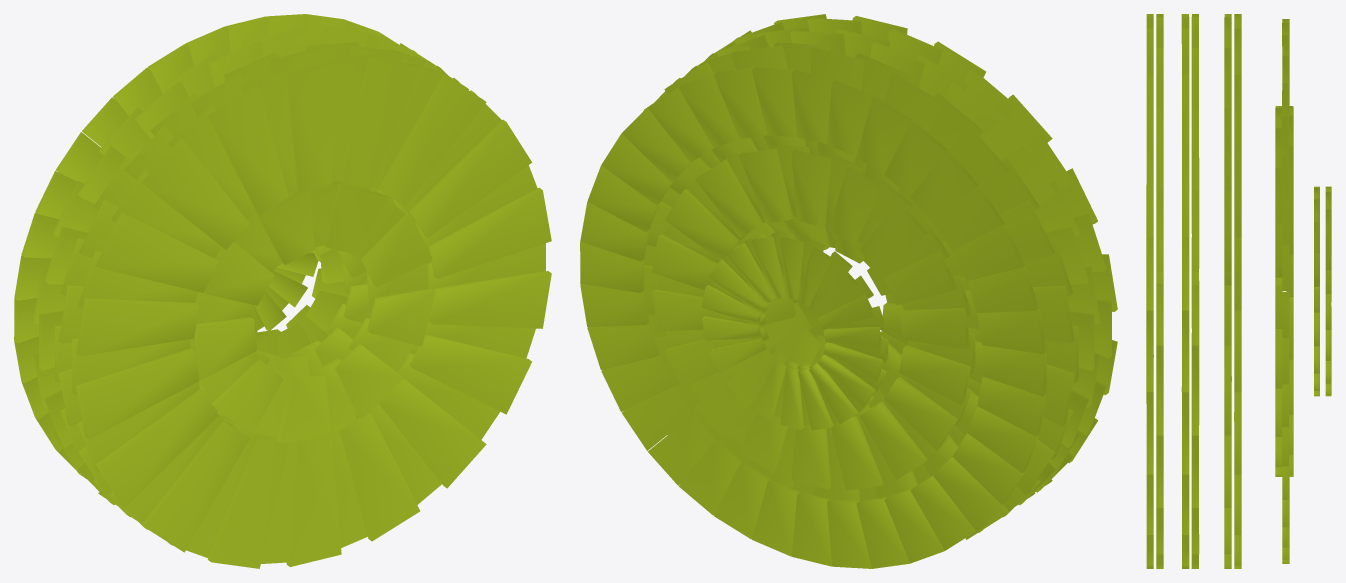
Rendered from CSCPlus3D_V1.glb.
3 views of the same model, side by side, from view 1: azimuth 30°, elevation 25°; view 2: azimuth 150°, elevation 25°; view 3: azimuth 270°, elevation 25° (orthographic).
Parts seen in each view (by area): view 1: CSCPlus3D_V1; view 2: CSCPlus3D_V1; view 3: CSCPlus3D_V1.
Boxes of the visible parts, x1=… form: CSCPlus3D_V1: x1=14, y1=14, x2=551, y2=568; CSCPlus3D_V1: x1=580, y1=14, x2=1117, y2=568; CSCPlus3D_V1: x1=1146, y1=14, x2=1331, y2=568.
Size of the model in its own units: 13.96 by 13.96 by 4.67.
